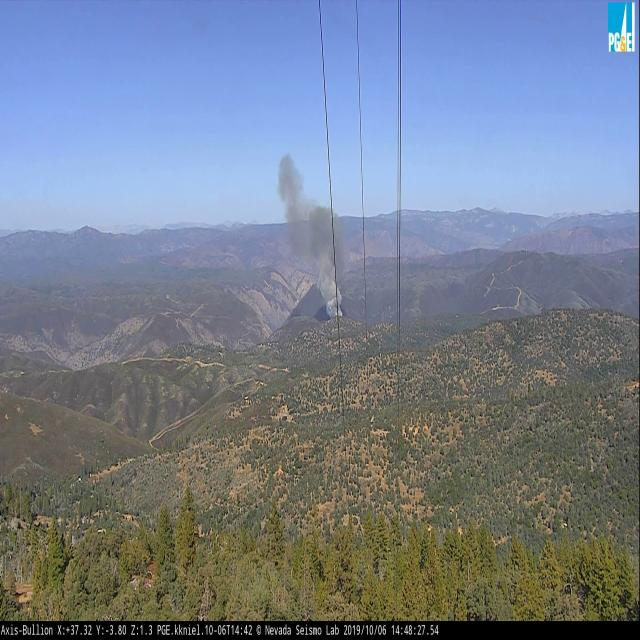smoke: (273, 140, 350, 327)
